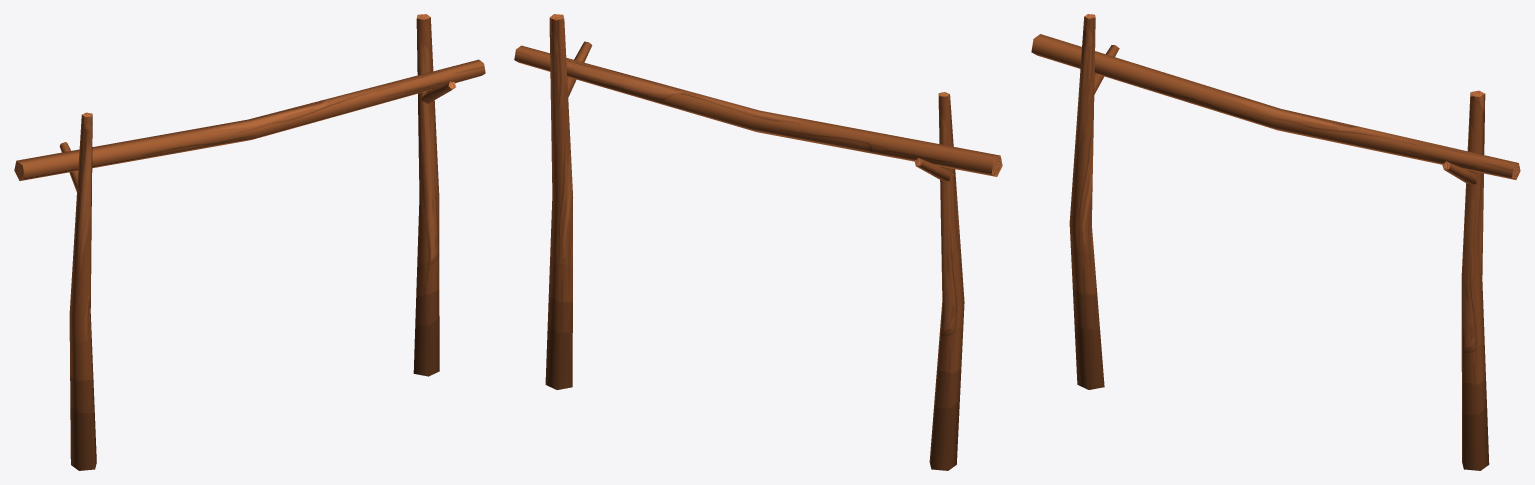
The model's file is campfire_sticks_A.fbx.
3 renders of one model, left to right at view 1: azimuth 30°, elevation 25°; view 2: azimuth 150°, elevation 25°; view 3: azimuth 330°, elevation 25°, orthographic. The views are drawn at different scales.
Parts seen in each view (by area): view 1: campfire_sticks_A; view 2: campfire_sticks_A; view 3: campfire_sticks_A.
Part boxes in pixels (x1=…): campfire_sticks_A: x1=14, y1=14, x2=485, y2=470; campfire_sticks_A: x1=514, y1=14, x2=1002, y2=470; campfire_sticks_A: x1=1031, y1=14, x2=1520, y2=470.
Size of the model in its own units: 171 by 125 by 25.34.
